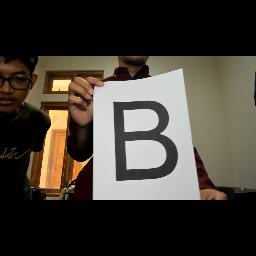b: (102, 96, 184, 184)
